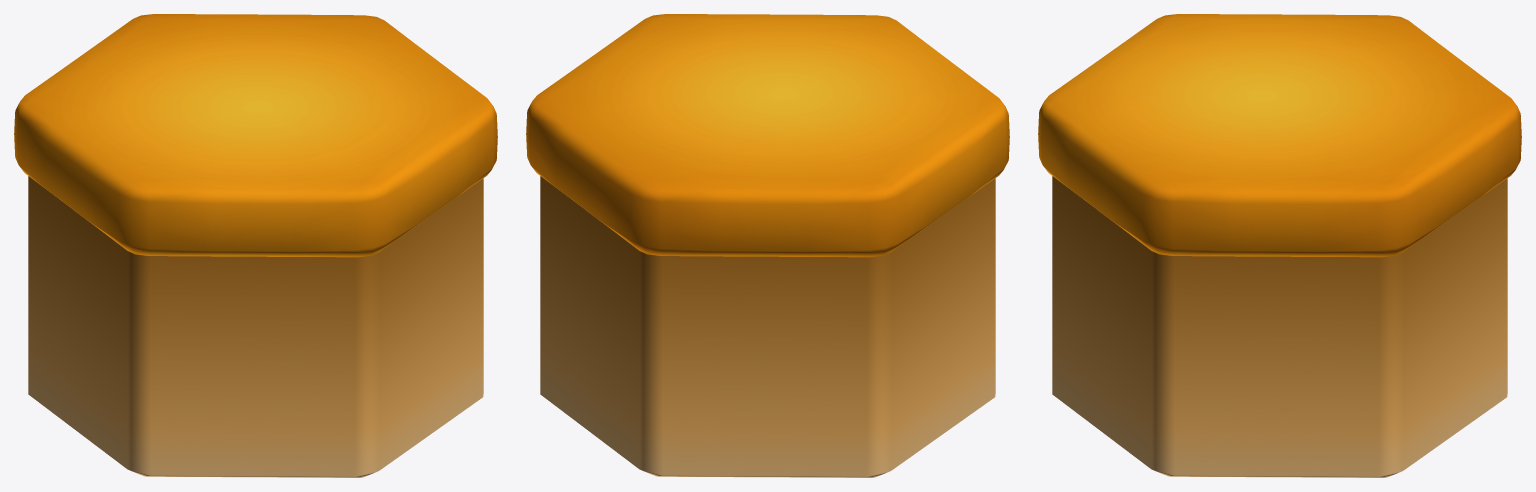
Rendered from TILE_Support_Desert.fbx.
3 views of the same model, side by side, from view 1: azimuth 30°, elevation 25°; view 2: azimuth 150°, elevation 25°; view 3: azimuth 270°, elevation 25° (orthographic).
Visible parts, largest first — view 1: Cylinder.025, Cylinder.026; view 2: Cylinder.025, Cylinder.026; view 3: Cylinder.025, Cylinder.026.
Part boxes in pixels (left/top/right/bottom): Cylinder.025: left=28, top=176, right=483, bottom=477; Cylinder.026: left=14, top=14, right=497, bottom=257; Cylinder.025: left=540, top=176, right=995, bottom=477; Cylinder.026: left=526, top=14, right=1009, bottom=257; Cylinder.025: left=1052, top=176, right=1507, bottom=477; Cylinder.026: left=1038, top=14, right=1521, bottom=257.
Size of the model in its own units: 1144 by 857 by 1257.
